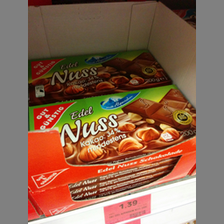chocolate: (29, 88, 196, 163), (28, 50, 172, 103)
